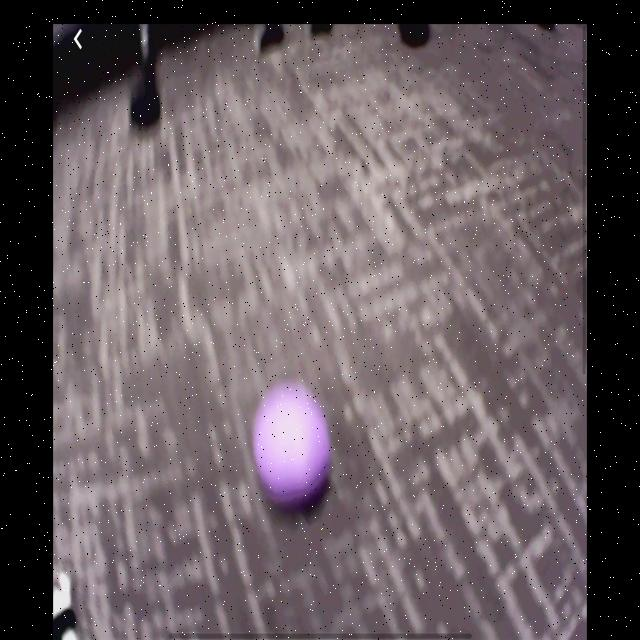ball: (252, 379, 333, 513)
